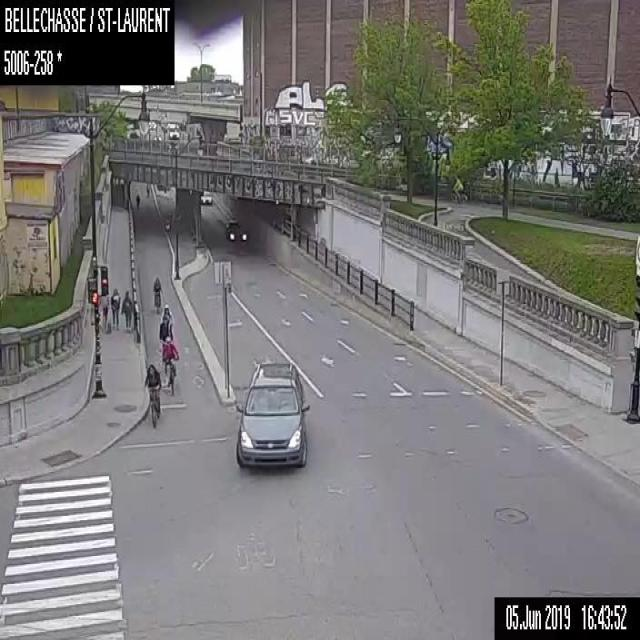cyclist: (161, 336, 178, 394), (145, 362, 160, 427), (158, 304, 174, 340), (450, 177, 467, 203), (152, 276, 161, 312)
pedestrian: (120, 289, 132, 328), (110, 287, 120, 330), (99, 296, 109, 328)
vehicle: (235, 361, 309, 467), (224, 220, 246, 241), (168, 123, 179, 137), (201, 191, 211, 202), (145, 182, 149, 197), (135, 193, 139, 208)
